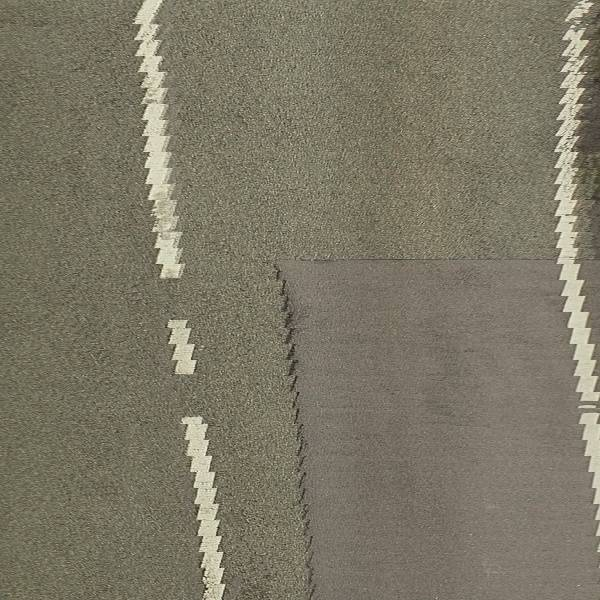road_damage: (261, 241, 527, 600)
